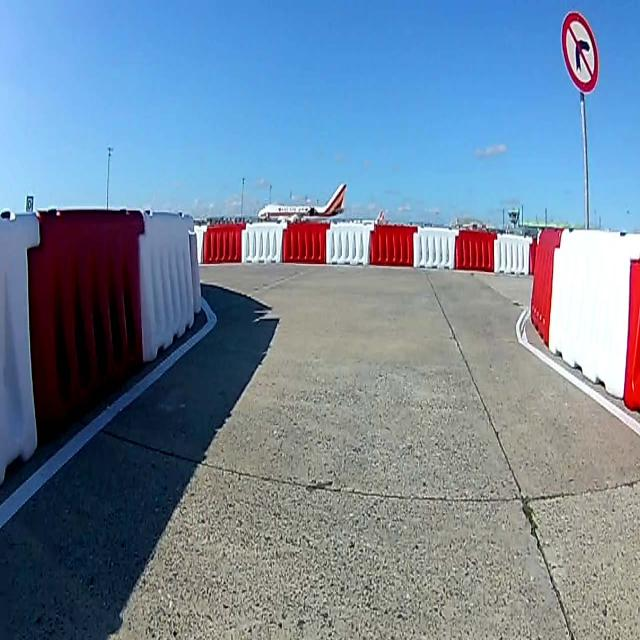sagadonulmez: (562, 14, 598, 91)
